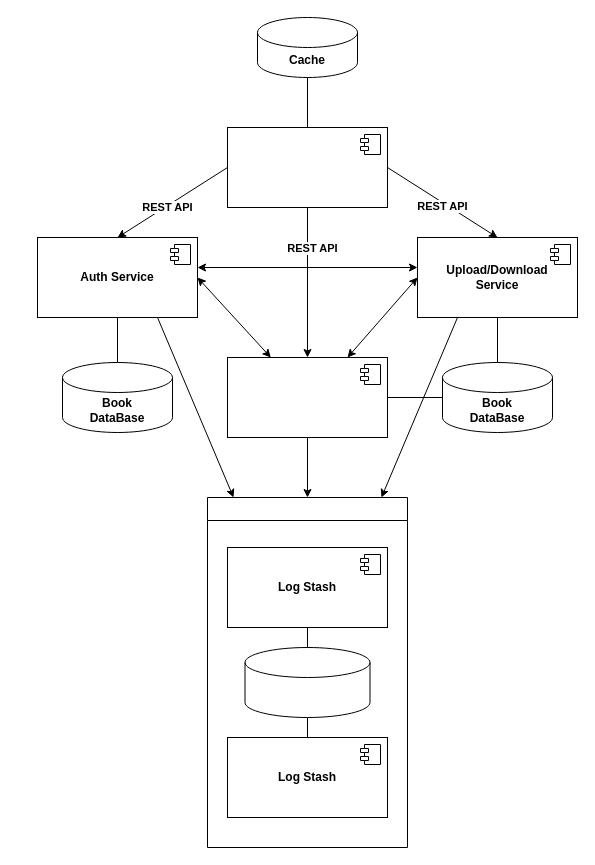
Some shapes in this 595 by 865 pixel diagram are drawn without their labels. Each missing label, with the box of its shape:
API Gateway: (226, 126, 388, 208)
Elastic Storage: (244, 646, 370, 718)
ELK Stack: (206, 496, 408, 848)
Search Service: (226, 356, 388, 438)
